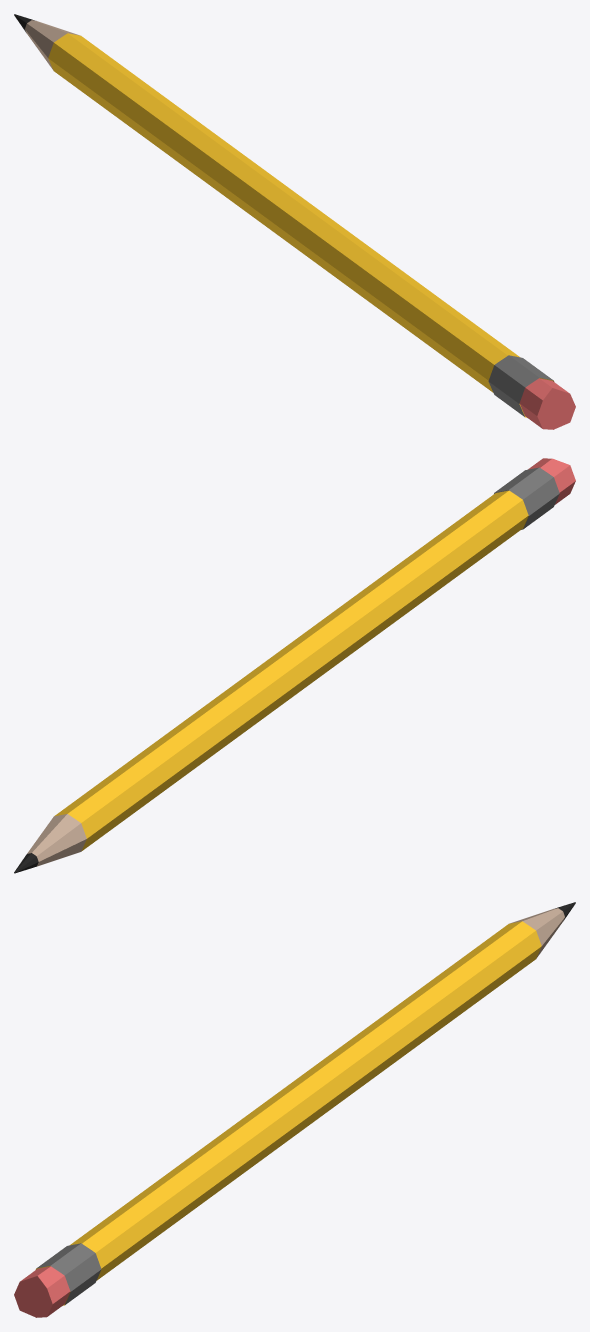
File: Lapiz.fbx
The picture shows the model from 3 angles, top to bottom: view 1: azimuth 30°, elevation 25°; view 2: azimuth 150°, elevation 25°; view 3: azimuth 330°, elevation 25°; orthographic projection.
Visible parts, largest first — view 1: Lapiz; view 2: Lapiz; view 3: Lapiz.
Boxes of the visible parts, <box> form: Lapiz: <box>14,14,575,429</box>; Lapiz: <box>14,458,575,873</box>; Lapiz: <box>14,902,575,1317</box>.
Size of the model in its own units: 29.02 by 29.02 by 673.
